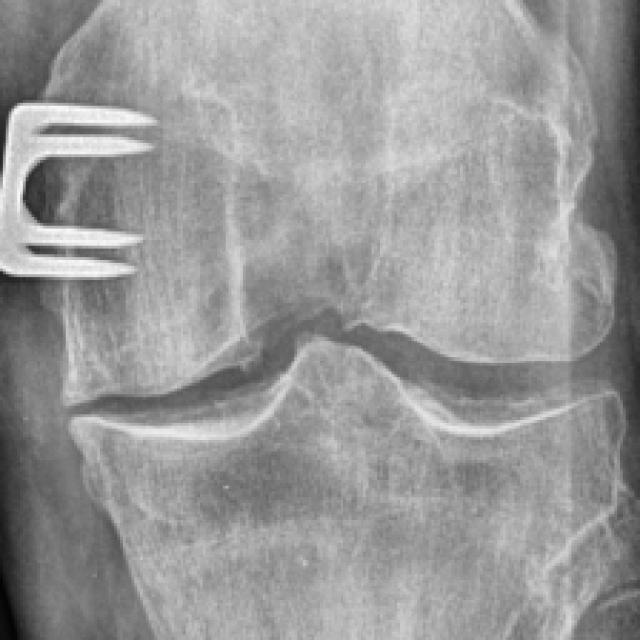femur: (1, 0, 618, 408)
tibia: (66, 331, 624, 640)
